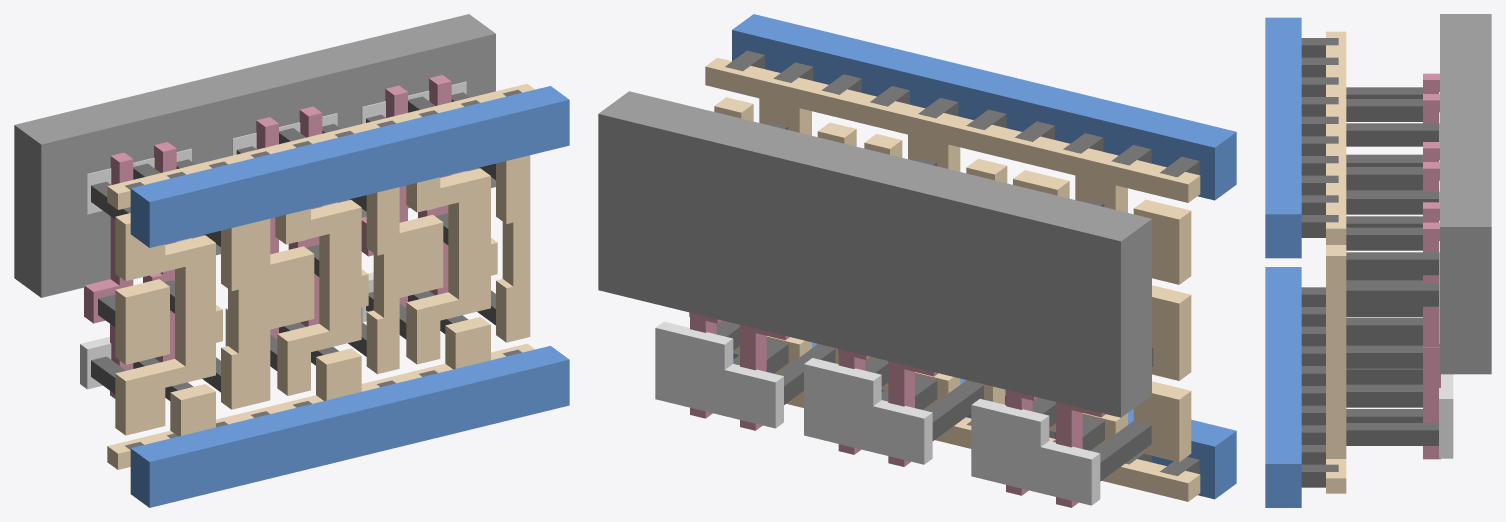
The model's file is sky130_fd_sc_hd__dlymetal6s2s_1.gds.gltf.
3 renders of one model, left to right at view 1: azimuth 30°, elevation 25°; view 2: azimuth 150°, elevation 25°; view 3: azimuth 270°, elevation 25°, orthographic. The views are drawn at different scales.
Visible parts, largest first — view 1: sky130_fd_sc_hd__dlymetal6s2s_1_li1, sky130_fd_sc_hd__dlymetal6s2s_1_met1, sky130_fd_sc_hd__dlymetal6s2s_1_nwell, sky130_fd_sc_hd__dlymetal6s2s_1_poly, sky130_fd_sc_hd__dlymetal6s2s_1_licon, sky130_fd_sc_hd__dlymetal6s2s_1_diff, sky130_fd_sc_hd__dlymetal6s2s_1_mcon; view 2: sky130_fd_sc_hd__dlymetal6s2s_1_nwell, sky130_fd_sc_hd__dlymetal6s2s_1_li1, sky130_fd_sc_hd__dlymetal6s2s_1_diff, sky130_fd_sc_hd__dlymetal6s2s_1_met1, sky130_fd_sc_hd__dlymetal6s2s_1_licon, sky130_fd_sc_hd__dlymetal6s2s_1_mcon, sky130_fd_sc_hd__dlymetal6s2s_1_poly; view 3: sky130_fd_sc_hd__dlymetal6s2s_1_licon, sky130_fd_sc_hd__dlymetal6s2s_1_nwell, sky130_fd_sc_hd__dlymetal6s2s_1_met1, sky130_fd_sc_hd__dlymetal6s2s_1_mcon, sky130_fd_sc_hd__dlymetal6s2s_1_li1, sky130_fd_sc_hd__dlymetal6s2s_1_poly, sky130_fd_sc_hd__dlymetal6s2s_1_diff.
Part boxes in pixels (x1,y1,x2,y2): sky130_fd_sc_hd__dlymetal6s2s_1_li1: (107, 83, 534, 469); sky130_fd_sc_hd__dlymetal6s2s_1_met1: (130, 86, 569, 507); sky130_fd_sc_hd__dlymetal6s2s_1_nwell: (14, 14, 495, 297); sky130_fd_sc_hd__dlymetal6s2s_1_poly: (84, 75, 451, 398); sky130_fd_sc_hd__dlymetal6s2s_1_licon: (91, 92, 495, 400); sky130_fd_sc_hd__dlymetal6s2s_1_diff: (80, 81, 466, 389); sky130_fd_sc_hd__dlymetal6s2s_1_mcon: (125, 90, 521, 449); sky130_fd_sc_hd__dlymetal6s2s_1_nwell: (598, 91, 1151, 417); sky130_fd_sc_hd__dlymetal6s2s_1_li1: (705, 57, 1200, 501); sky130_fd_sc_hd__dlymetal6s2s_1_diff: (655, 321, 1100, 505); sky130_fd_sc_hd__dlymetal6s2s_1_met1: (732, 14, 1236, 499); sky130_fd_sc_hd__dlymetal6s2s_1_licon: (716, 122, 1153, 481); sky130_fd_sc_hd__dlymetal6s2s_1_mcon: (725, 50, 1199, 475); sky130_fd_sc_hd__dlymetal6s2s_1_poly: (689, 312, 1105, 507); sky130_fd_sc_hd__dlymetal6s2s_1_licon: (1346, 87, 1438, 445); sky130_fd_sc_hd__dlymetal6s2s_1_nwell: (1440, 14, 1491, 374); sky130_fd_sc_hd__dlymetal6s2s_1_met1: (1265, 17, 1301, 507); sky130_fd_sc_hd__dlymetal6s2s_1_mcon: (1301, 38, 1338, 487); sky130_fd_sc_hd__dlymetal6s2s_1_li1: (1326, 31, 1346, 493); sky130_fd_sc_hd__dlymetal6s2s_1_poly: (1423, 73, 1440, 459); sky130_fd_sc_hd__dlymetal6s2s_1_diff: (1439, 92, 1453, 458).
Size of the model in its own units: 4.98 by 3.2 by 2.24.
